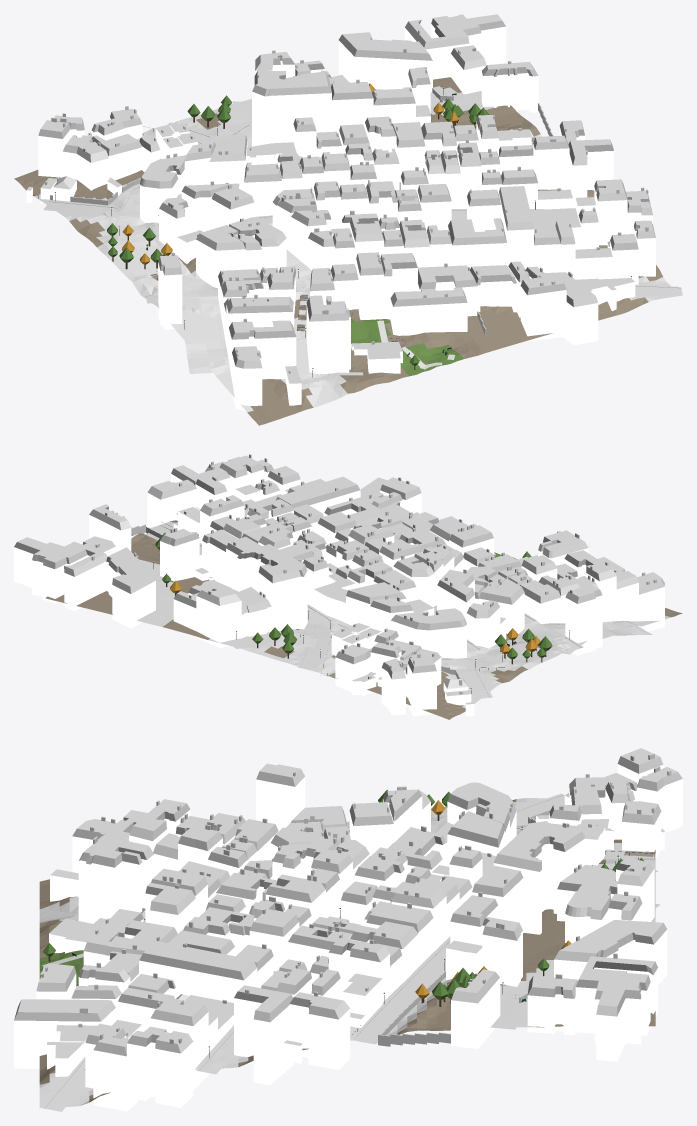
File: zone_D4.glb
3 renders of one model, top to bottom at view 1: azimuth 30°, elevation 25°; view 2: azimuth 150°, elevation 25°; view 3: azimuth 270°, elevation 25°, orthographic. The views are drawn at different scales.
Parts seen in each view (by area): view 1: zone_D4_batiments, zone_D4_terrain, zone_D4_sol_NOCOL, zone_D4_decor_NOCOL; view 2: zone_D4_batiments, zone_D4_terrain, zone_D4_sol_NOCOL, zone_D4_decor_NOCOL; view 3: zone_D4_batiments, zone_D4_terrain, zone_D4_sol_NOCOL, zone_D4_decor_NOCOL.
Boxes of the visible parts, bbox=[...] form: zone_D4_batiments: bbox=[26, 14, 655, 410]; zone_D4_terrain: bbox=[14, 75, 682, 425]; zone_D4_sol_NOCOL: bbox=[43, 77, 682, 399]; zone_D4_decor_NOCOL: bbox=[33, 83, 631, 377]; zone_D4_batiments: bbox=[14, 454, 664, 716]; zone_D4_terrain: bbox=[45, 520, 682, 719]; zone_D4_sol_NOCOL: bbox=[144, 524, 652, 699]; zone_D4_decor_NOCOL: bbox=[153, 524, 569, 693]; zone_D4_batiments: bbox=[14, 748, 682, 1111]; zone_D4_terrain: bbox=[39, 798, 655, 1107]; zone_D4_sol_NOCOL: bbox=[40, 793, 660, 1111]; zone_D4_decor_NOCOL: bbox=[43, 790, 654, 1071].
Size of the model in its own units: 215 by 61.87 by 202.
